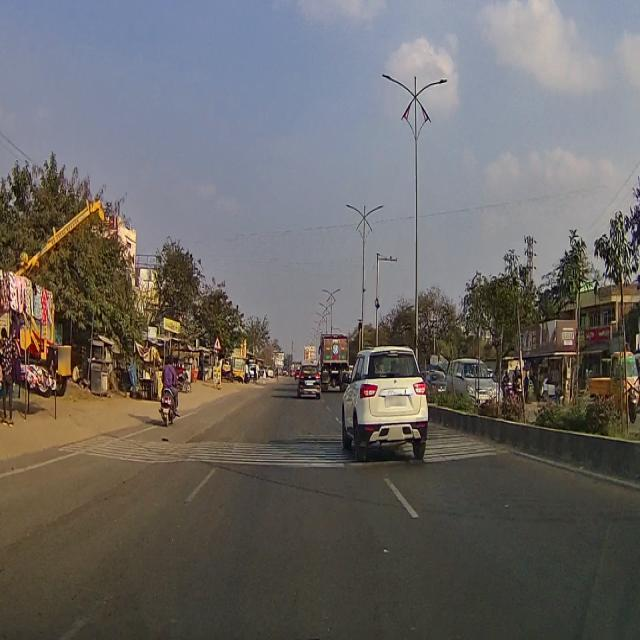side-road-left: (213, 334, 222, 352)
